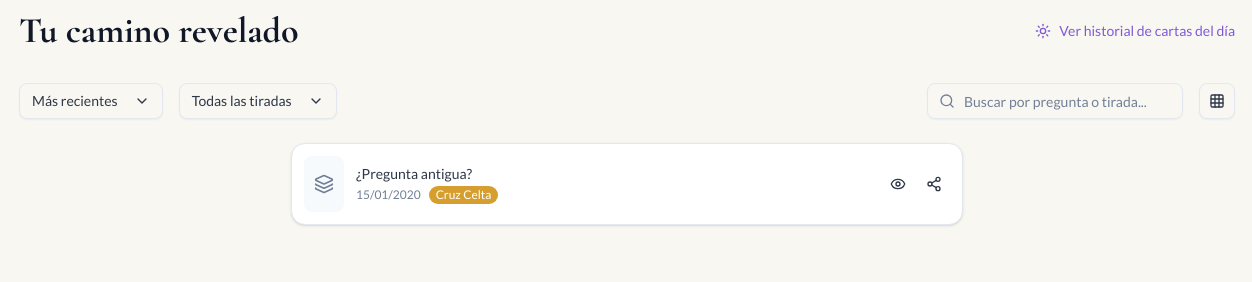
HistorialPage › Date Filter Behavior › should filter readings by "Esta semana" and show message if none match
Open filter dropdown and select "Esta semana"
What coordinates should you click on to do the following:
click the button with test id "date-filter"
I would click on:
 (91, 101)
Its box is [19,83,163,119].
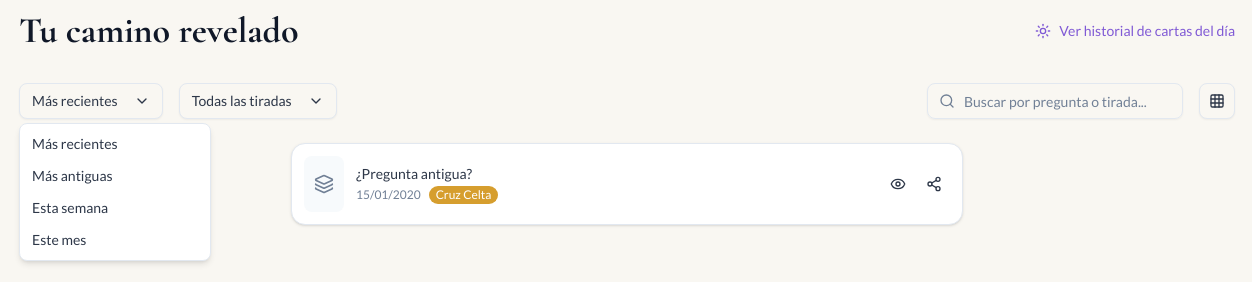
expect the menu item "Esta semana" is shown: met
What coordinates should you click on to do the following:
click the menu item "Esta semana"
I would click on:
 (70, 208)
Its box is [32,199,108,216].
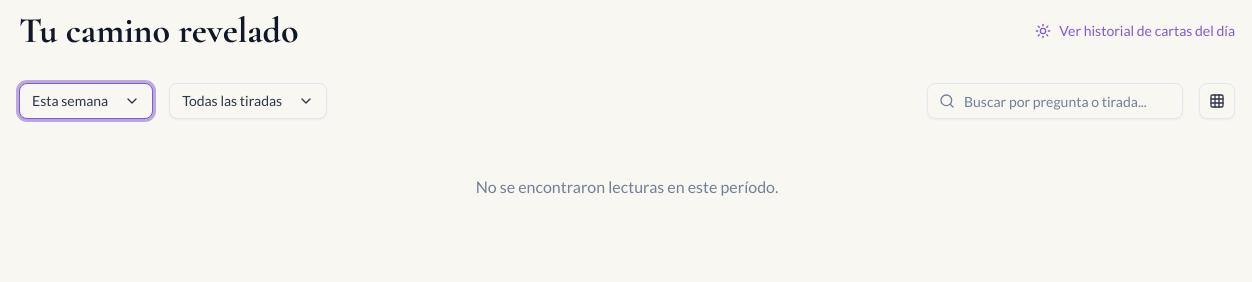
expect the text "No se encontraron lecturas en este período." is shown: met, box [476,177,778,196]
